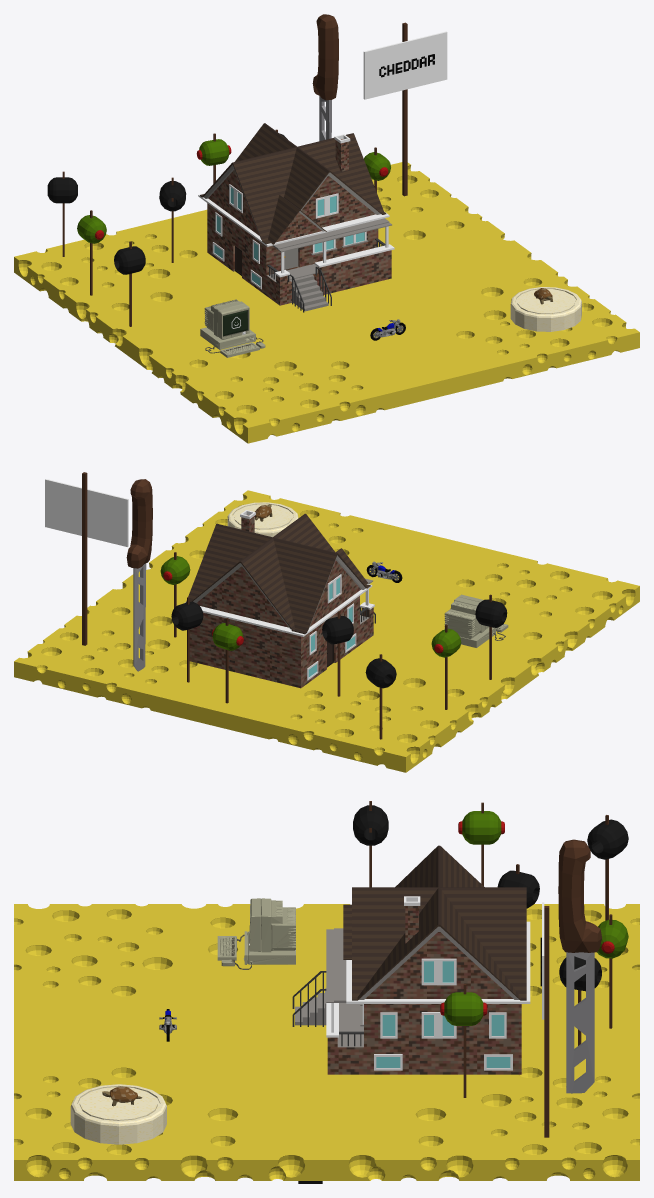
3 views of the same model, one above another, from view 1: azimuth 30°, elevation 25°; view 2: azimuth 150°, elevation 25°; view 3: azimuth 270°, elevation 25° (orthographic). The views are drawn at different scales.
Parts seen in each view (by area): view 1: Cube.022, Cube.117, Cube.023, Cylinder.016, OBJRANDOM_RETRO_PC, Cube.024, Sphere.017, Sphere.016, Sphere.020, Sphere.018, Sphere.022, Sphere.019; view 2: Cube.022, Cube.117, Cube.023, Cube.024, OBJRANDOM_RETRO_PC, Cylinder.016, Sphere.020, Sphere.016, Sphere.022, Sphere.017, Sphere.021, Sphere.018 (+2 smaller); view 3: Cube.022, Cube.117, Cube.024, Cylinder.016, OBJRANDOM_RETRO_PC, Cube.023, Sphere.019, Sphere.016, Sphere.018, Sphere.017, Sphere.022, Sphere.020 (+1 smaller).
Part boxes in pixels (x1,y1,x2,y2): Cube.022: (14, 162, 639, 443); Cube.117: (198, 123, 394, 312); Cube.023: (363, 22, 447, 196); Cylinder.016: (510, 287, 581, 331); OBJRANDOM_RETRO_PC: (200, 299, 265, 357); Cube.024: (312, 14, 338, 141); Sphere.017: (114, 241, 145, 326); Sphere.016: (47, 171, 77, 256); Sphere.020: (159, 177, 186, 262); Sphere.018: (77, 210, 106, 295); Sphere.022: (196, 133, 231, 183); Sphere.019: (364, 147, 390, 192); Cube.022: (14, 490, 639, 772); Cube.117: (185, 510, 375, 688); Cube.023: (45, 472, 128, 645); Cube.024: (126, 479, 152, 671); OBJRANDOM_RETRO_PC: (444, 594, 508, 647); Cylinder.016: (227, 502, 298, 537); Sphere.020: (322, 611, 353, 696); Sphere.016: (365, 654, 396, 739); Sphere.022: (212, 618, 243, 703); Sphere.017: (475, 594, 507, 679); Sphere.021: (171, 597, 203, 682); Sphere.018: (431, 624, 461, 709); Cube.022: (14, 904, 639, 1180); Cube.117: (292, 845, 530, 1074); Cube.024: (558, 839, 601, 1093); Cylinder.016: (70, 1084, 166, 1144); OBJRANDOM_RETRO_PC: (217, 898, 295, 969); Cube.023: (540, 902, 549, 1137); Sphere.019: (440, 984, 487, 1097); Sphere.016: (587, 815, 628, 920); Sphere.018: (458, 802, 504, 885); Sphere.017: (353, 801, 388, 887); Sphere.022: (597, 914, 628, 1028); Sphere.020: (497, 864, 539, 908).
Bounding box in the file's own units: 3917 × 2015 × 4000.
35 materials, 4 textured.
